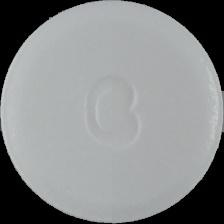68788-9770: (0, 0, 224, 224)
